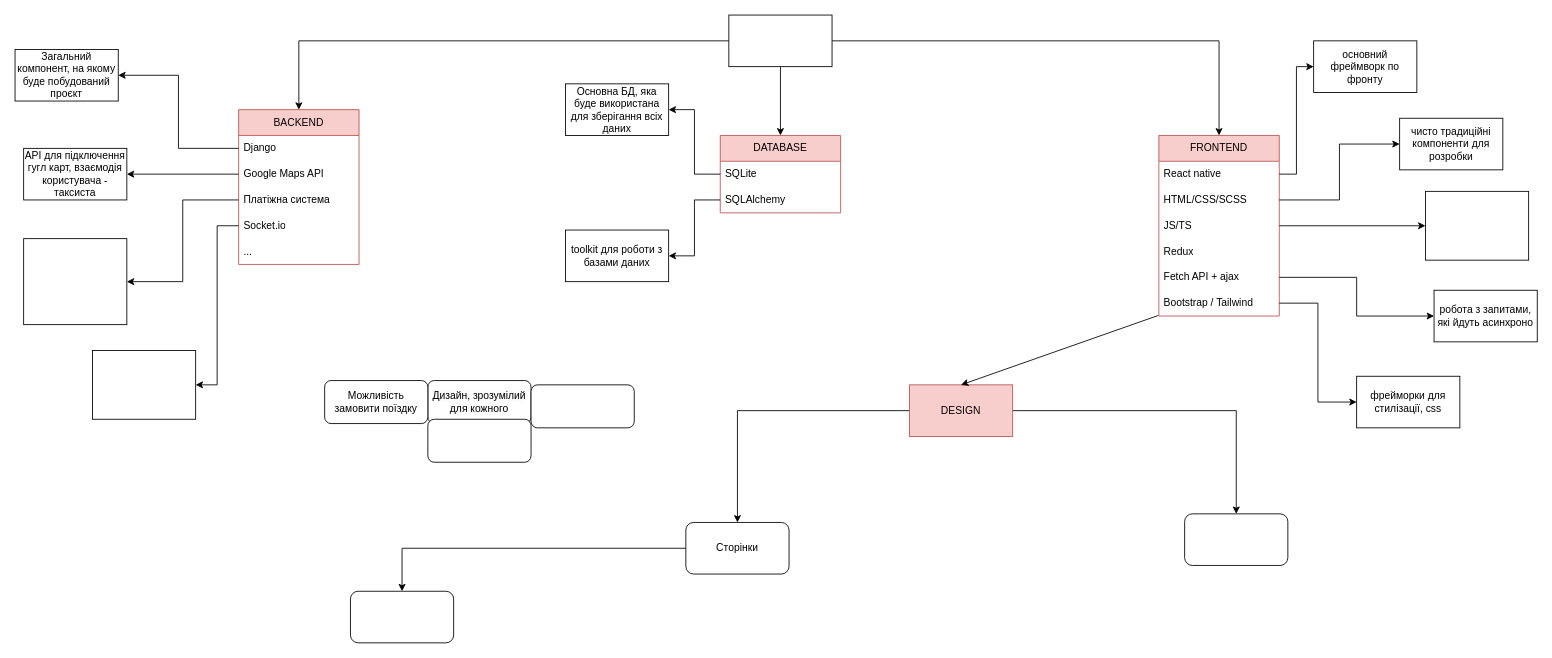
This 1552x658 diagram has some shape labels left out. Each missing label, with the centre of its shape:
WebSocket бібліотека для підтримання зв'язку сервера з клієнтом в RealTime: [144,384]
Вимоги: [1236,539]
Головна сторінка: [402,616]
здебільшого буде використання fetchAPI, ajax, але можливі і інші потреби: [1477,225]
Можливість використовувати GooglePay / ApplePay безпосередньо в програмі: [75,281]
ПРОЄКТ: [780,40]
Система авторизації користувачів: [479,440]
